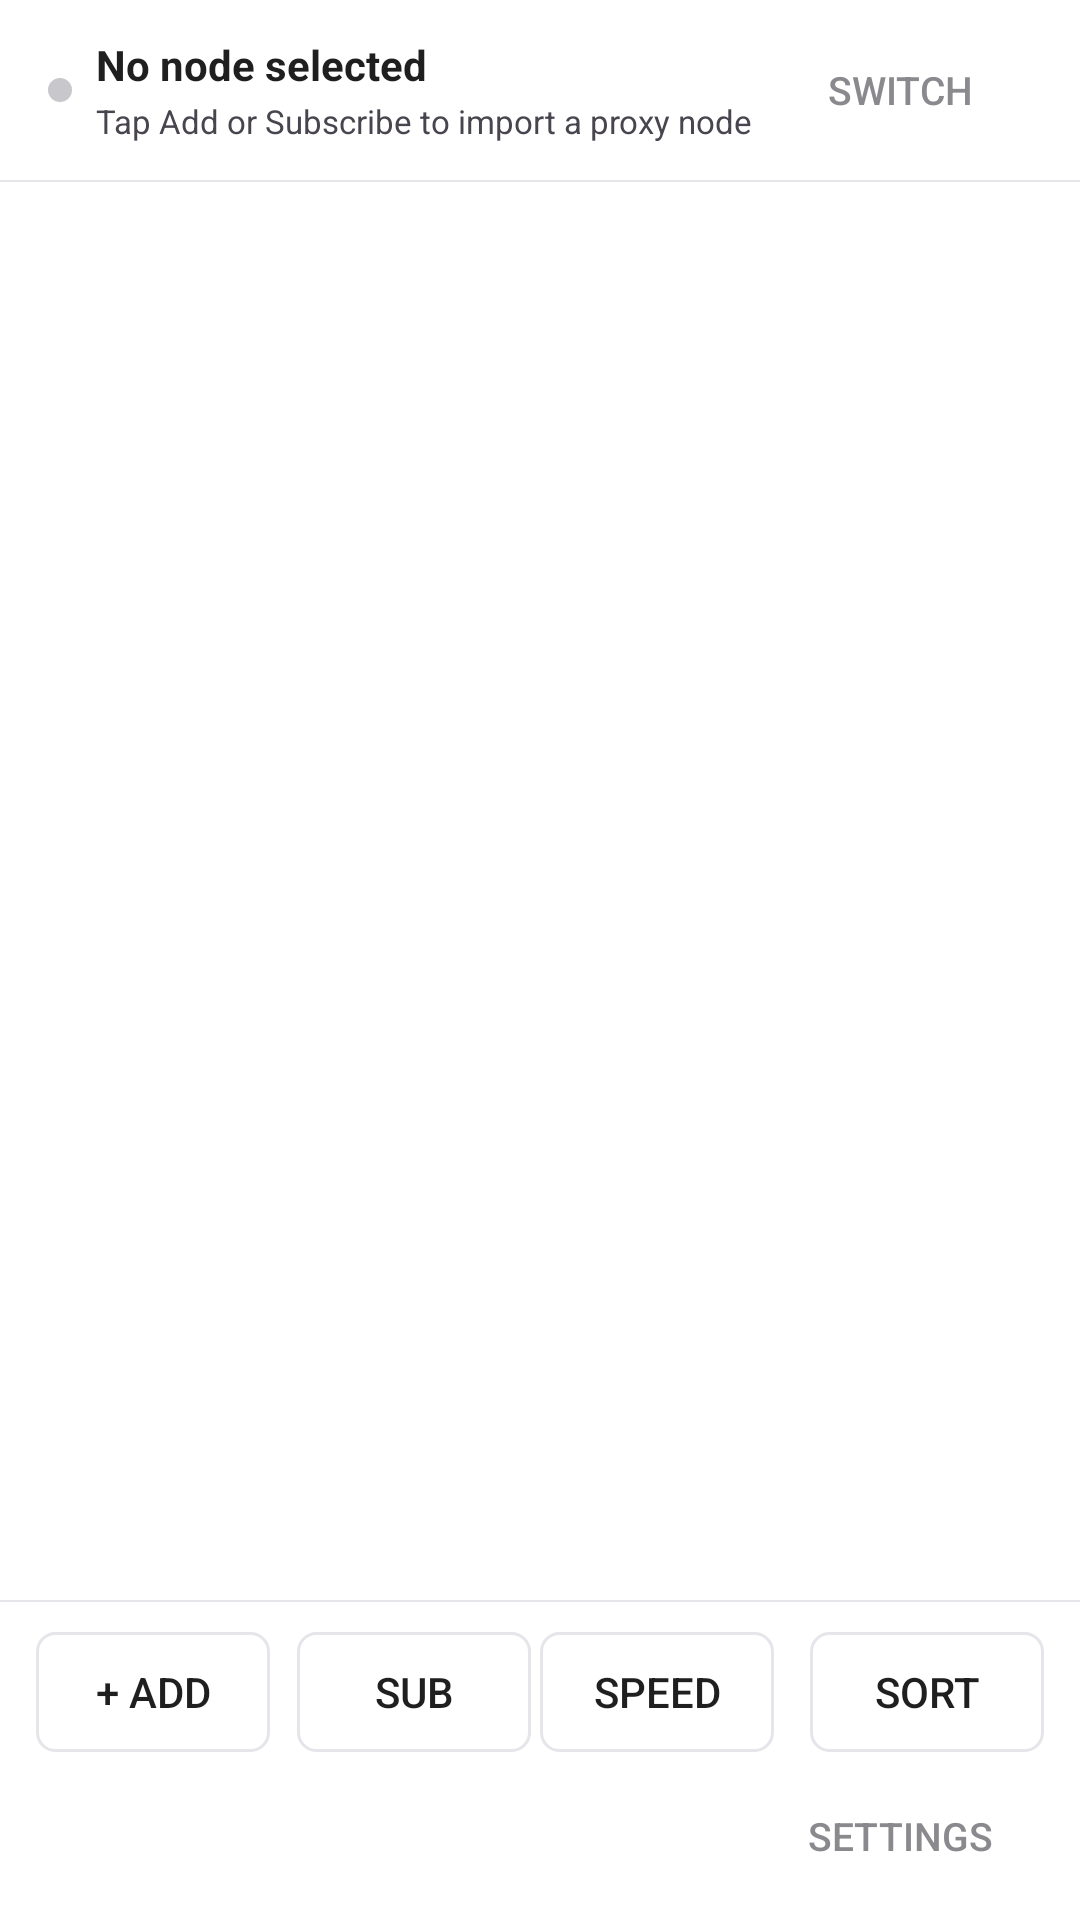

Screen size 1080*1920. Icon name, then its box in pixels as (x1, y1, x2, y2):
dot off: (48, 78, 72, 102)
